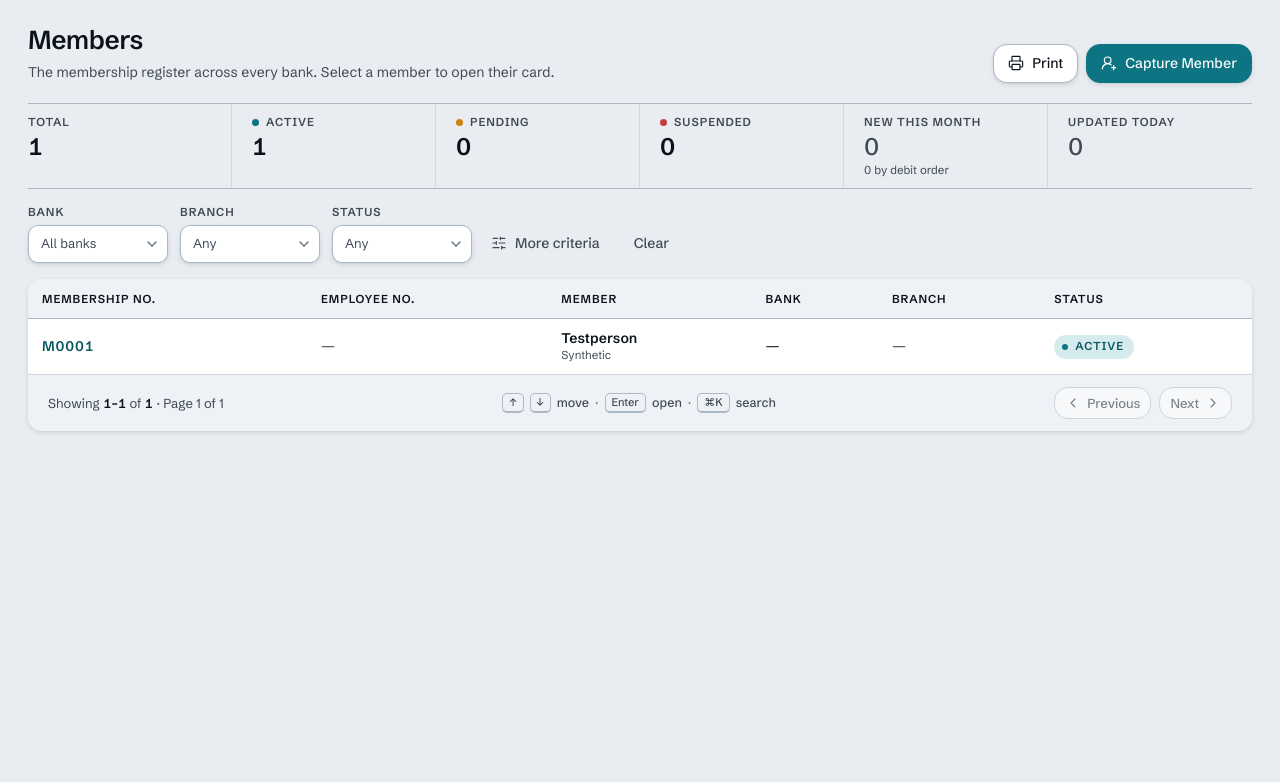
Scenario: reading: one column, and an unanswered question says so › shows the three answers and no "Specialized Assignments"
Click the button named "open the record for". click: (68, 346)
box: x1=42 y1=336 x2=94 y2=357
(page scrolled)
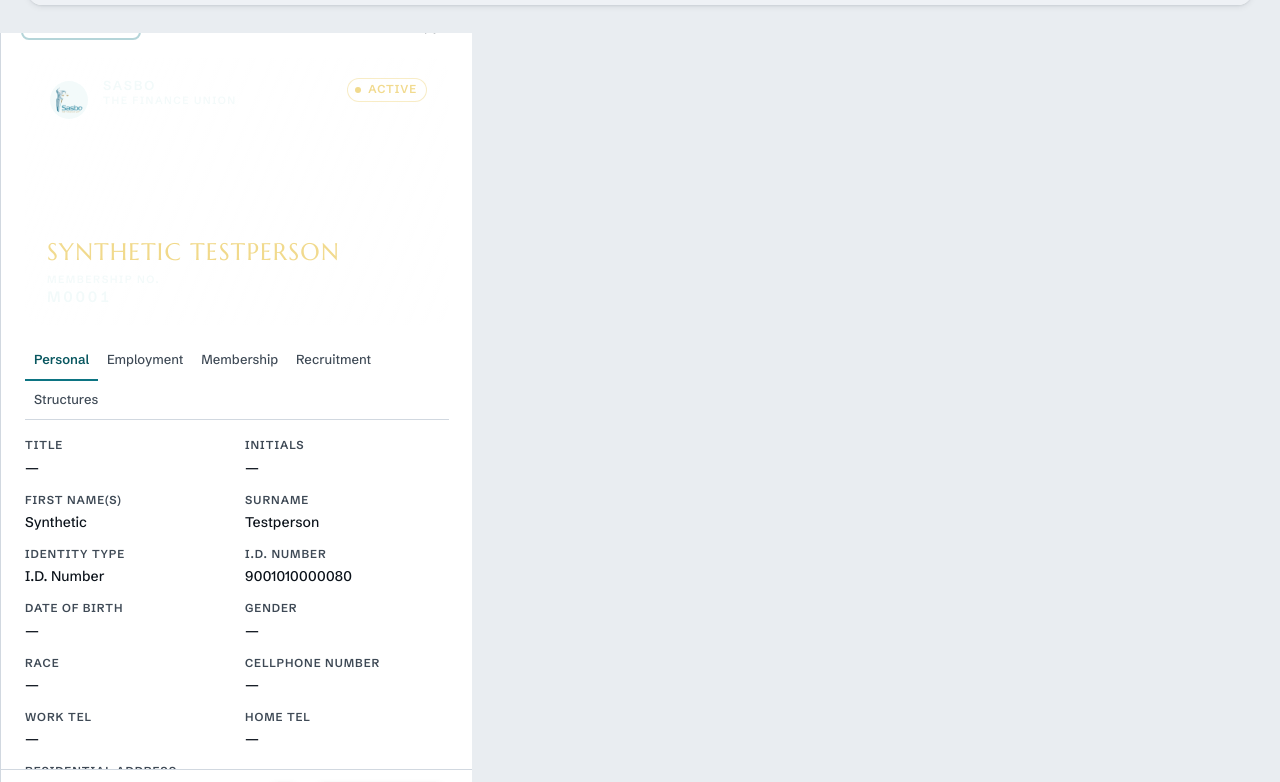
Click the button named "Sasbo Structures". click: (66, 401)
box: x1=25 y1=381 x2=107 y2=420
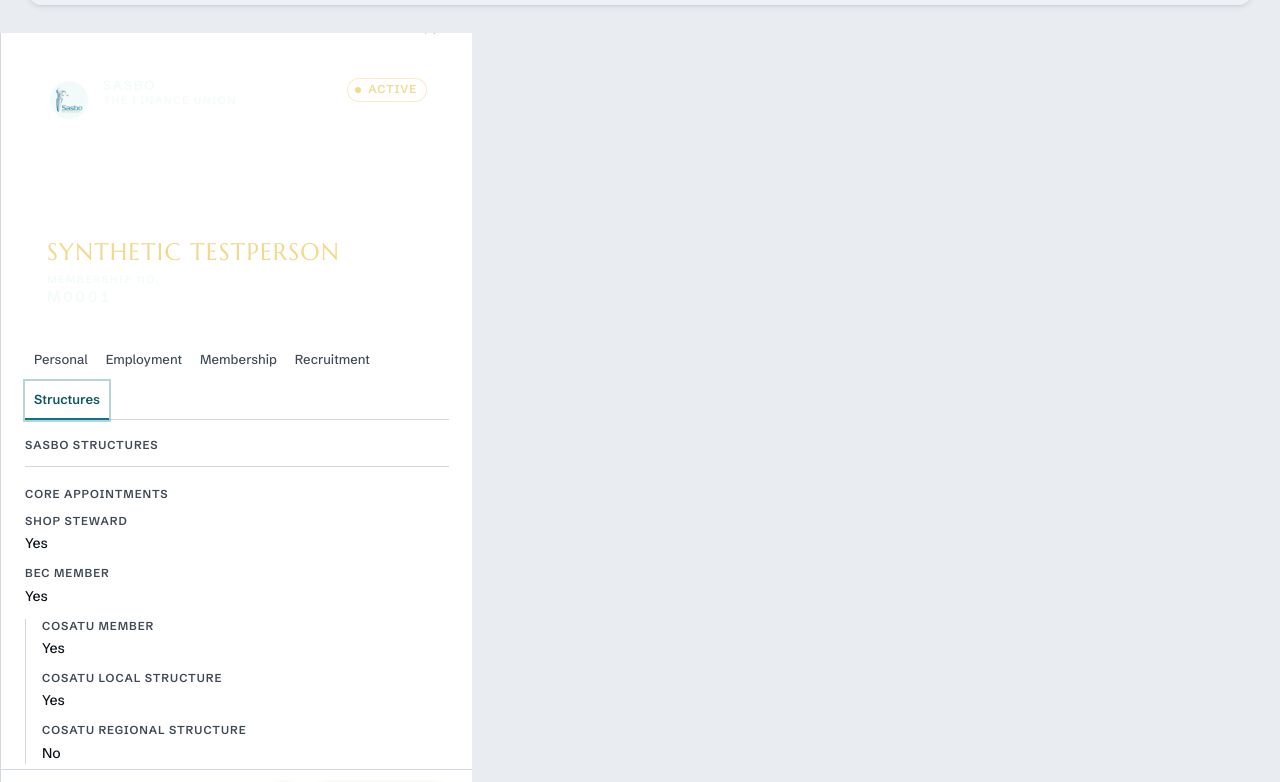
Expected: the heading "Core Appointments" is shown, x1=25 y1=487 x2=169 y2=501
Expected: the text "COSATU Local structure" is shown, x1=42 y1=671 x2=222 y2=685
Expected: the text "COSATU Regional structure" is shown, x1=42 y1=723 x2=246 y2=737
